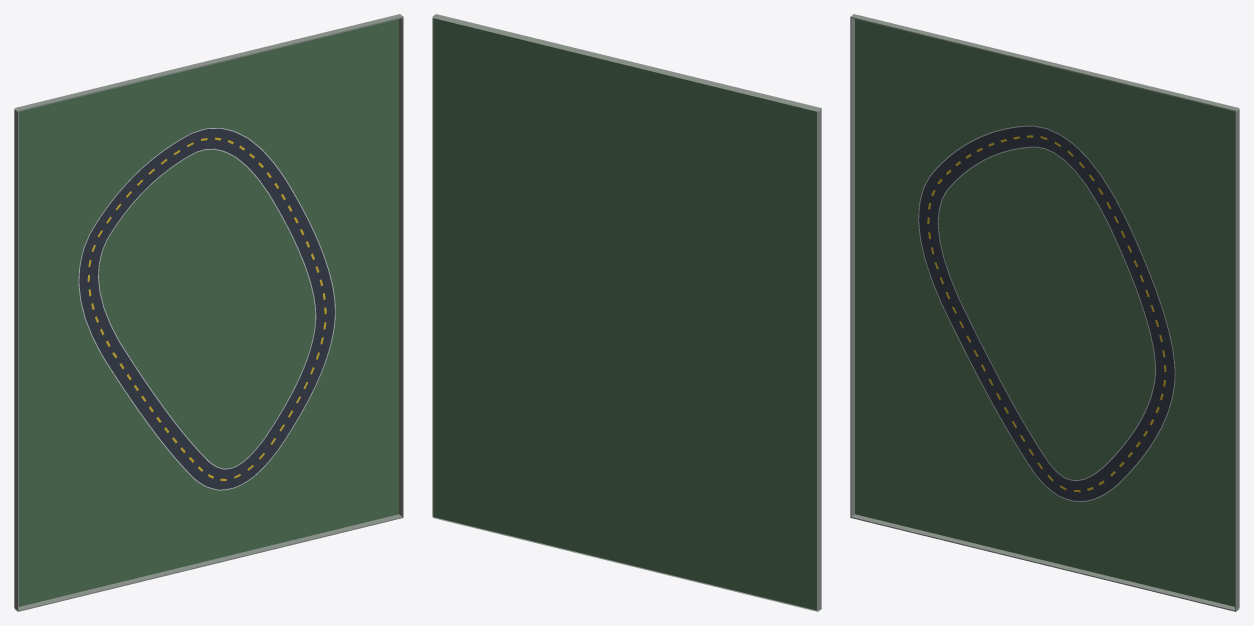
File: track.obj
3 renders of one model, left to right at view 1: azimuth 30°, elevation 25°; view 2: azimuth 150°, elevation 25°; view 3: azimuth 330°, elevation 25°, orthographic.
Size of the model in its own units: 17.81 by 22.11 by 0.3.
Materials: 5 (5 with a texture image).
